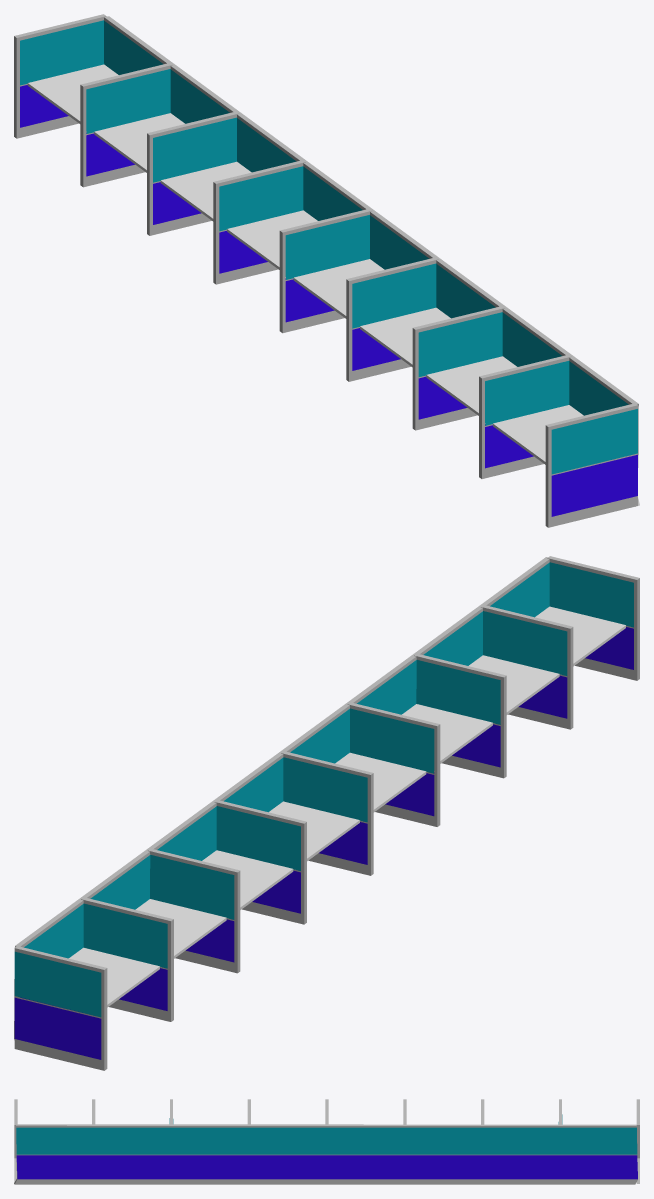
Rendered from CubiculosSencillos.fbx.
3 views of the same model, one above another, from view 1: azimuth 30°, elevation 25°; view 2: azimuth 150°, elevation 25°; view 3: azimuth 270°, elevation 25° (orthographic). The views are drawn at different scales.
Visible parts, largest first — view 1: Cube; view 2: Cube; view 3: Cube.
Boxes of the visible parts, x1,y1,x2,y2 form: Cube: [14, 14, 639, 527]; Cube: [14, 556, 639, 1070]; Cube: [14, 1099, 639, 1184].
Bounding box in the file's own units: 383 × 401 × 3848.
